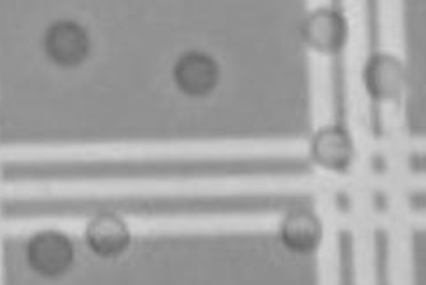cell: (20, 224, 76, 283), (77, 205, 137, 260), (295, 4, 352, 61), (302, 119, 358, 177), (39, 15, 95, 70), (274, 199, 326, 258), (169, 47, 223, 101), (359, 49, 413, 103)
